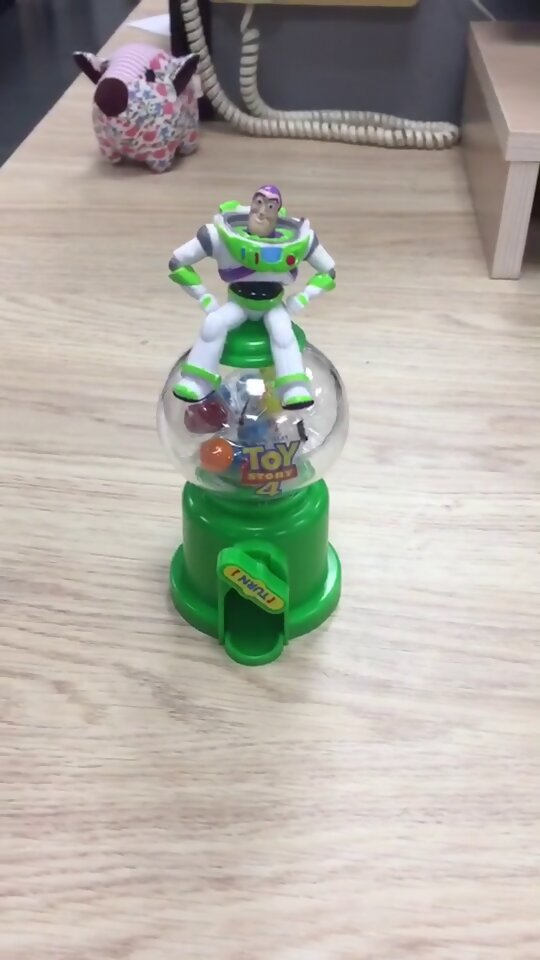buzz: (155, 180, 353, 672)
